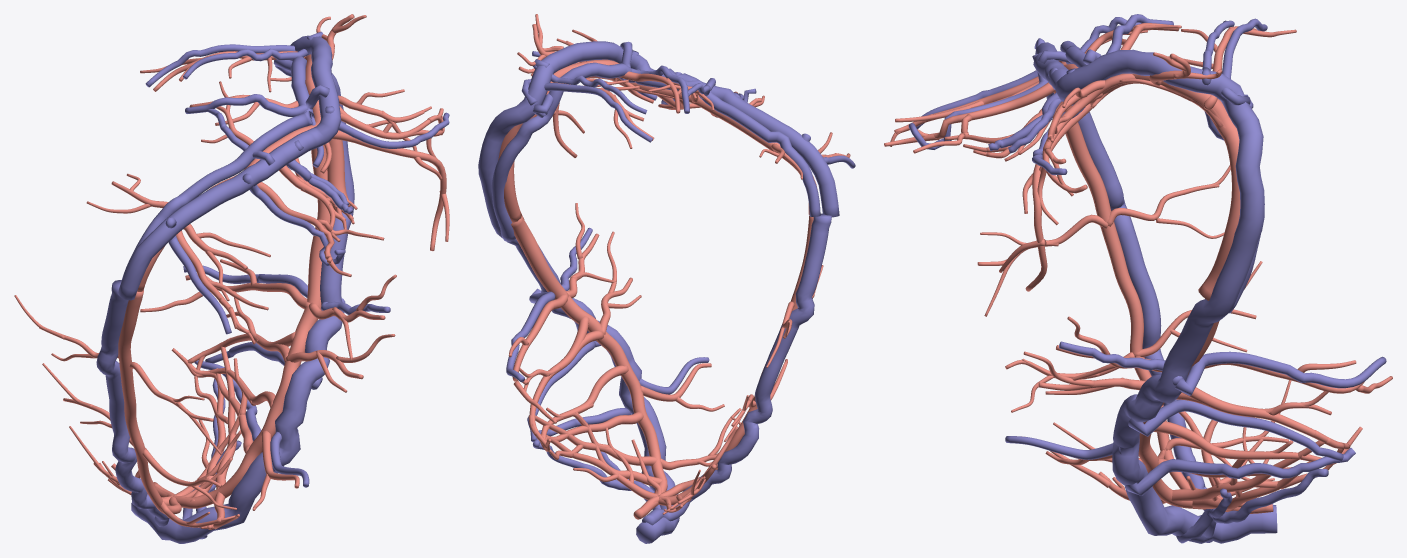
The model's file is vessels_15.glb.
The picture shows the model from 3 angles, left to right: view 1: azimuth 30°, elevation 25°; view 2: azimuth 150°, elevation 25°; view 3: azimuth 270°, elevation 25°; orthographic projection. The views are drawn at different scales.
Parts seen in each view (by area): view 1: Renderer Node; view 2: Renderer Node; view 3: Renderer Node.
Part boxes in pixels (x1=…): Renderer Node: x1=14, y1=14, x2=449, y2=543; Renderer Node: x1=478, y1=14, x2=855, y2=543; Renderer Node: x1=884, y1=14, x2=1392, y2=543.
Bounding box in the file's own units: 85.93 × 114 × 90.
